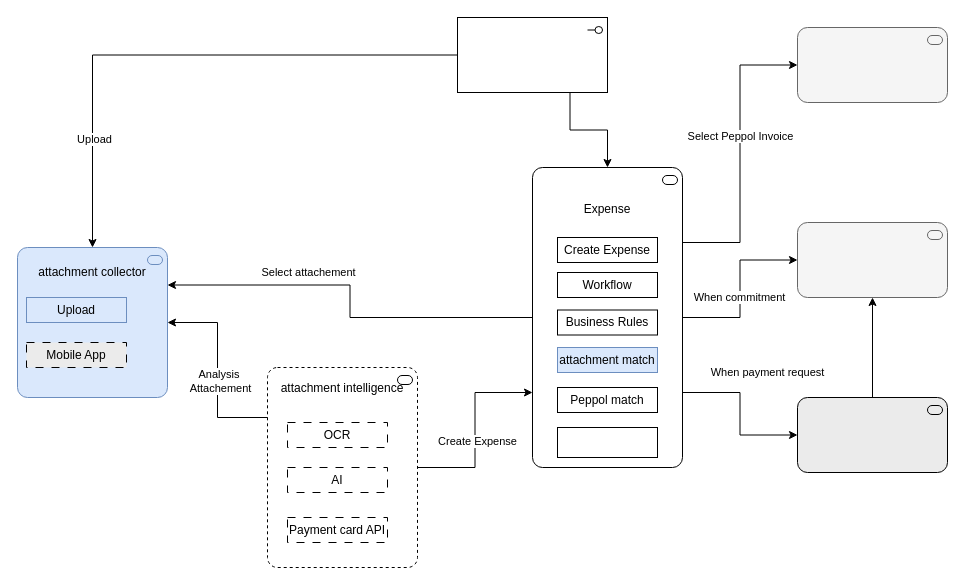
Image size: 965x585. Some labels were removed from this diagram. Each missing label, with the centre of its shape:
"Accounting" belongs at (872,260).
"Create Expense Report" belongs at (607,442).
"Interface Desk" belongs at (532,54).
"Payment" belongs at (872,434).
"Peppol collector" belongs at (872,64).
